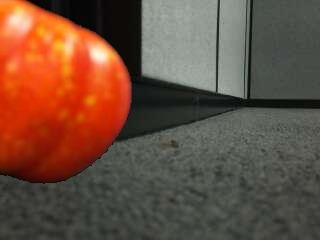Pumpkin: (0, 0, 134, 187)
